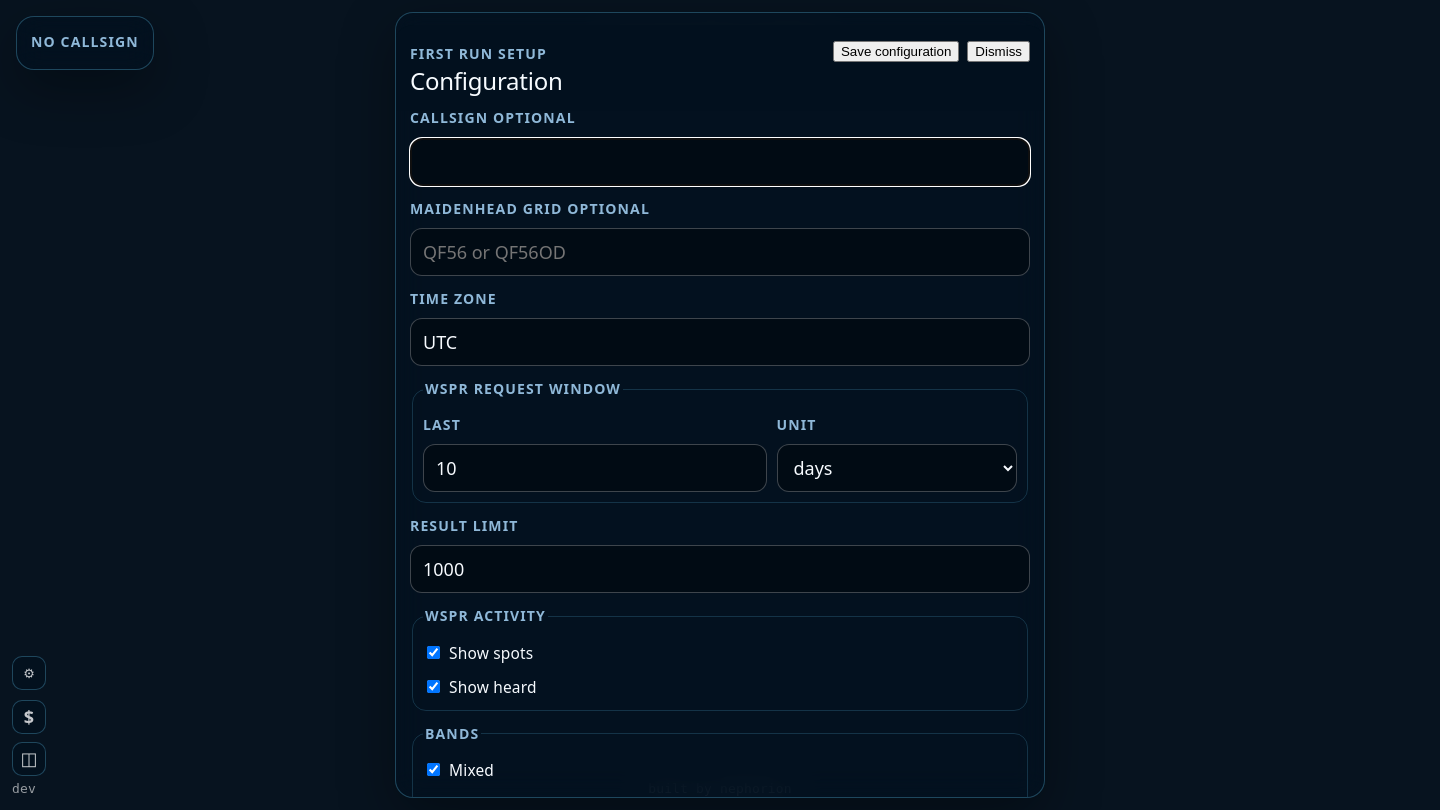
keeps invalid app configuration submissions in selection state
The width and height of the screenshot is (1440, 810).
In the field labelled "Callsign optional": (720, 162) x1=410 y1=138 x2=1030 y2=186, type "?"
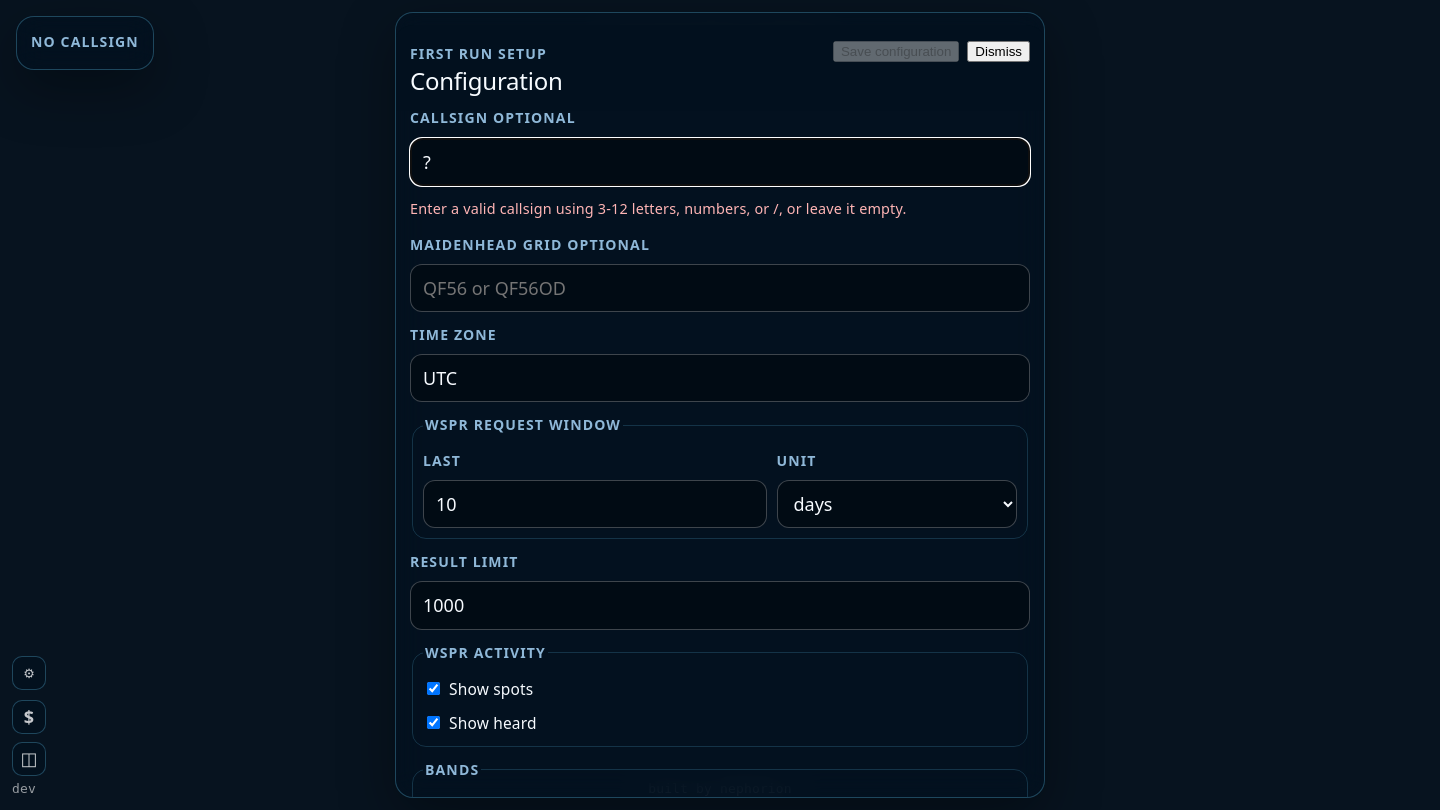
Check: the text "Enter a valid callsign" is shown, box x1=410 y1=199 x2=906 y2=218
